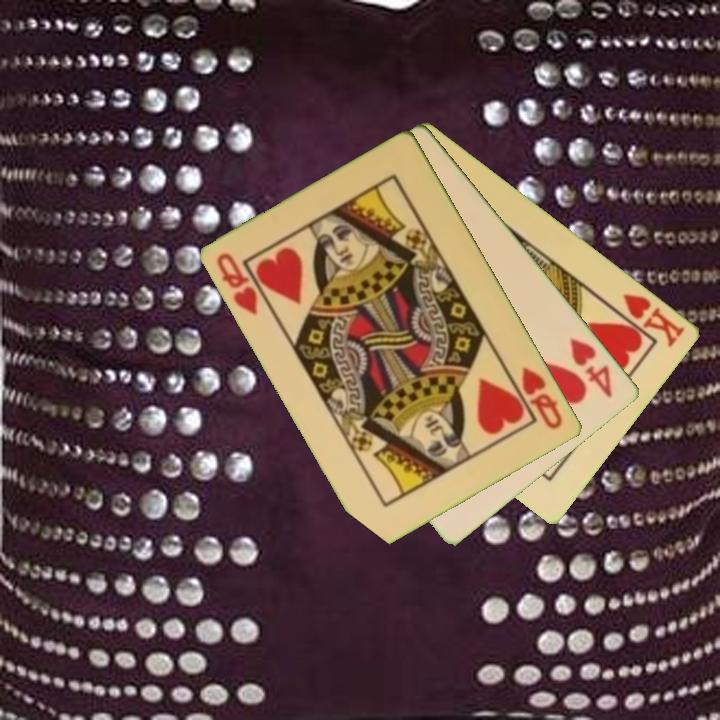4h: (567, 334, 616, 401)
Kh: (607, 290, 689, 350)
Qh: (213, 249, 262, 319), (518, 362, 566, 433)
